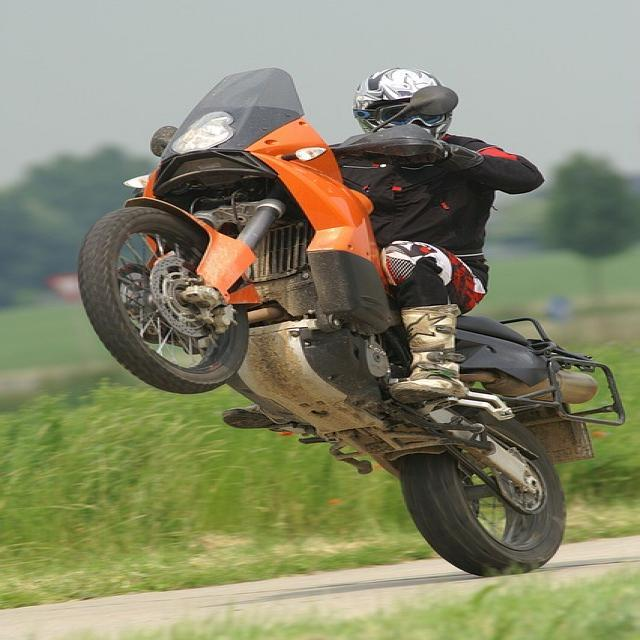Wheeling: (73, 44, 575, 576)
